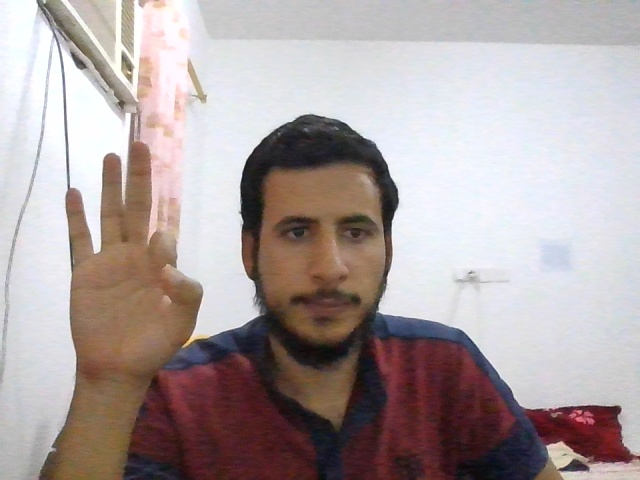Three: (66, 142, 203, 377)
